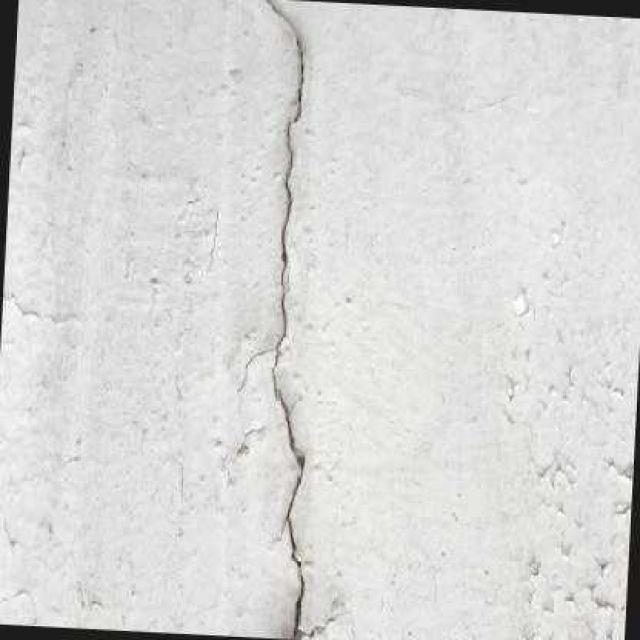D00: (260, 0, 305, 639)
